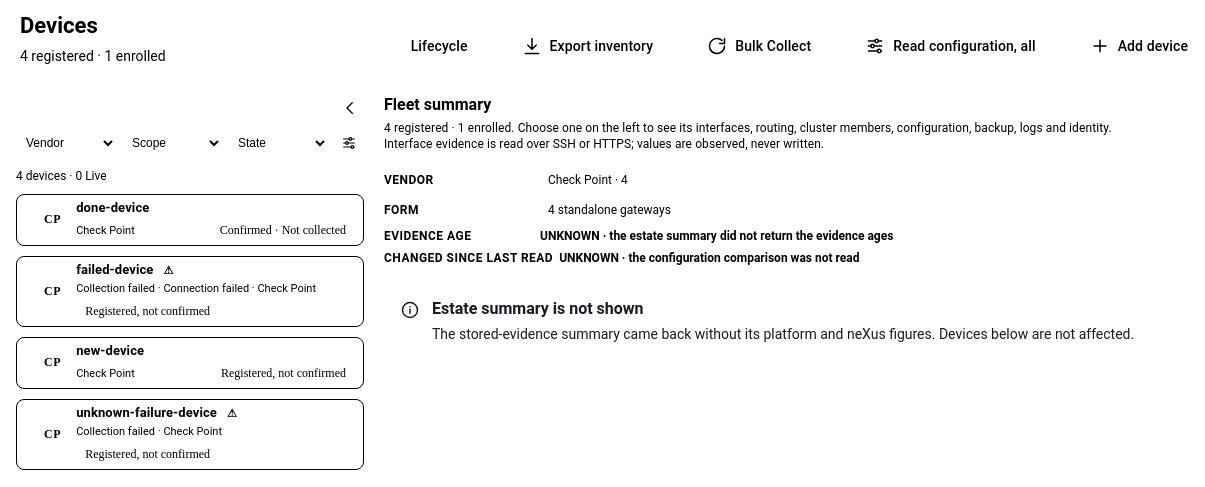
Test: InventoryScreen device list › distinguishes completed, failed, and never-collected devices and filters only failures
Expected: the text "failed-device" is shown, x1=76 y1=261 x2=153 y2=279
Select "Latest job failed · 2" in the dropdown named "State" at (278, 143), box x1=228 y1=128 x2=328 y2=158
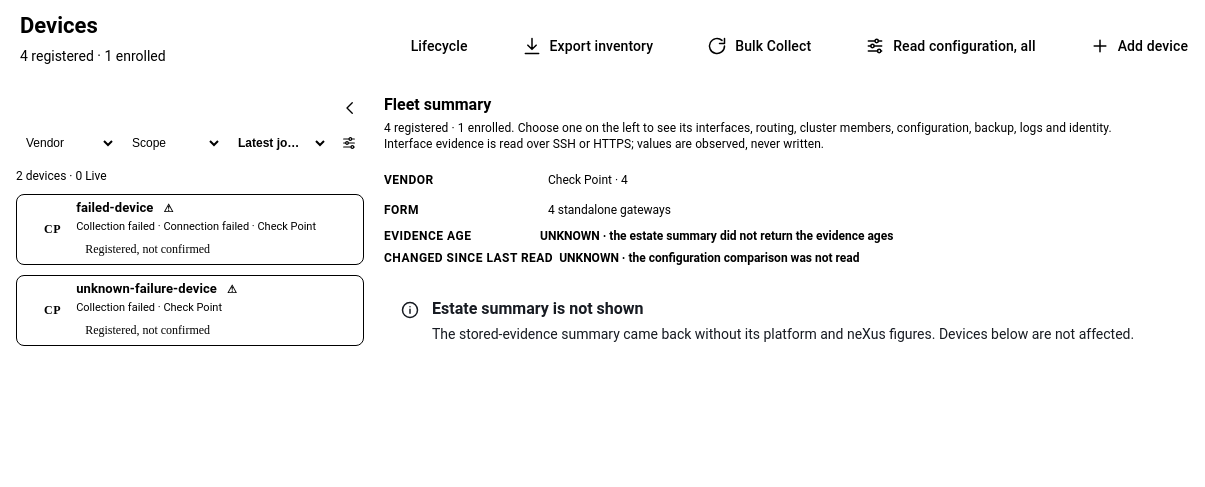
Expected: the text "failed-device" is shown, x1=76 y1=199 x2=153 y2=217
Expected: the button "done-device" is gone
Expected: the button "new-device" is gone
Select "State" in the dropdown named "State" at (278, 143), box x1=228 y1=128 x2=328 y2=158
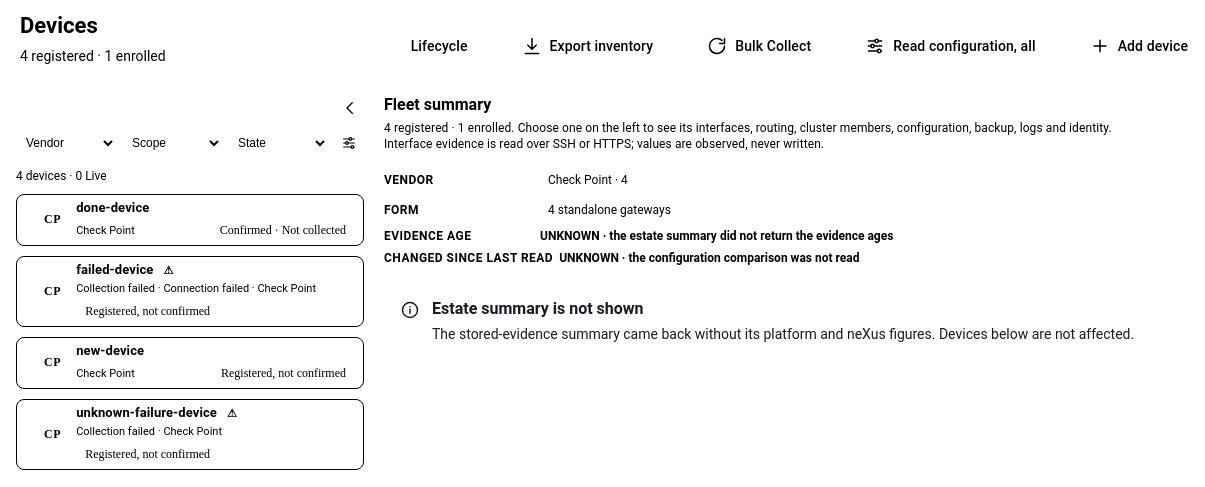
Expected: the text "done-device" is shown, x1=76 y1=199 x2=149 y2=217
Expected: the text "new-device" is shown, x1=76 y1=342 x2=144 y2=360
Select "Draft · 3" in the dropdown named "State" at (278, 143), box x1=228 y1=128 x2=328 y2=158
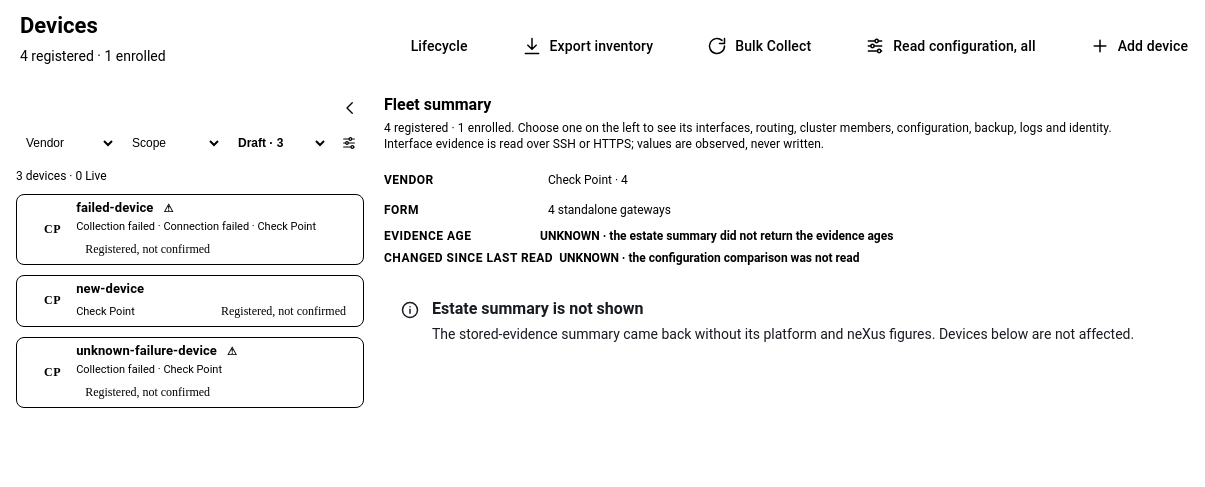
Expected: the text "failed-device" is shown, x1=76 y1=199 x2=153 y2=217
Expected: the text "new-device" is shown, x1=76 y1=280 x2=144 y2=298
Expected: the button "done-device" is gone
